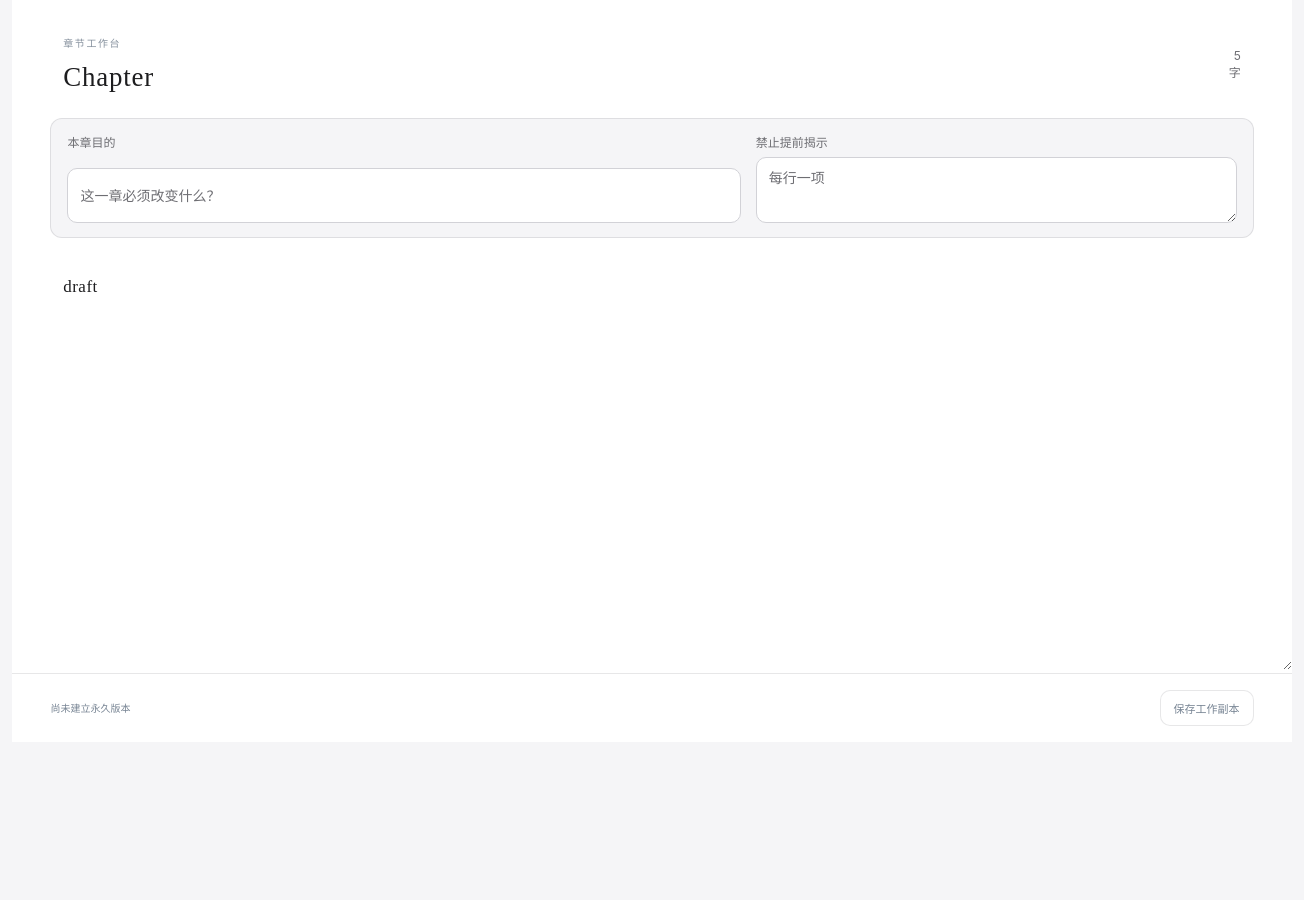
Test: story and writing workspaces › treats saved forbidden revelations semantically and preserves raw input: secret A, secret B
Type "secret A, secret B" into the text box labelled "禁止提前揭示" at (996, 190), box x1=756 y1=157 x2=1237 y2=223
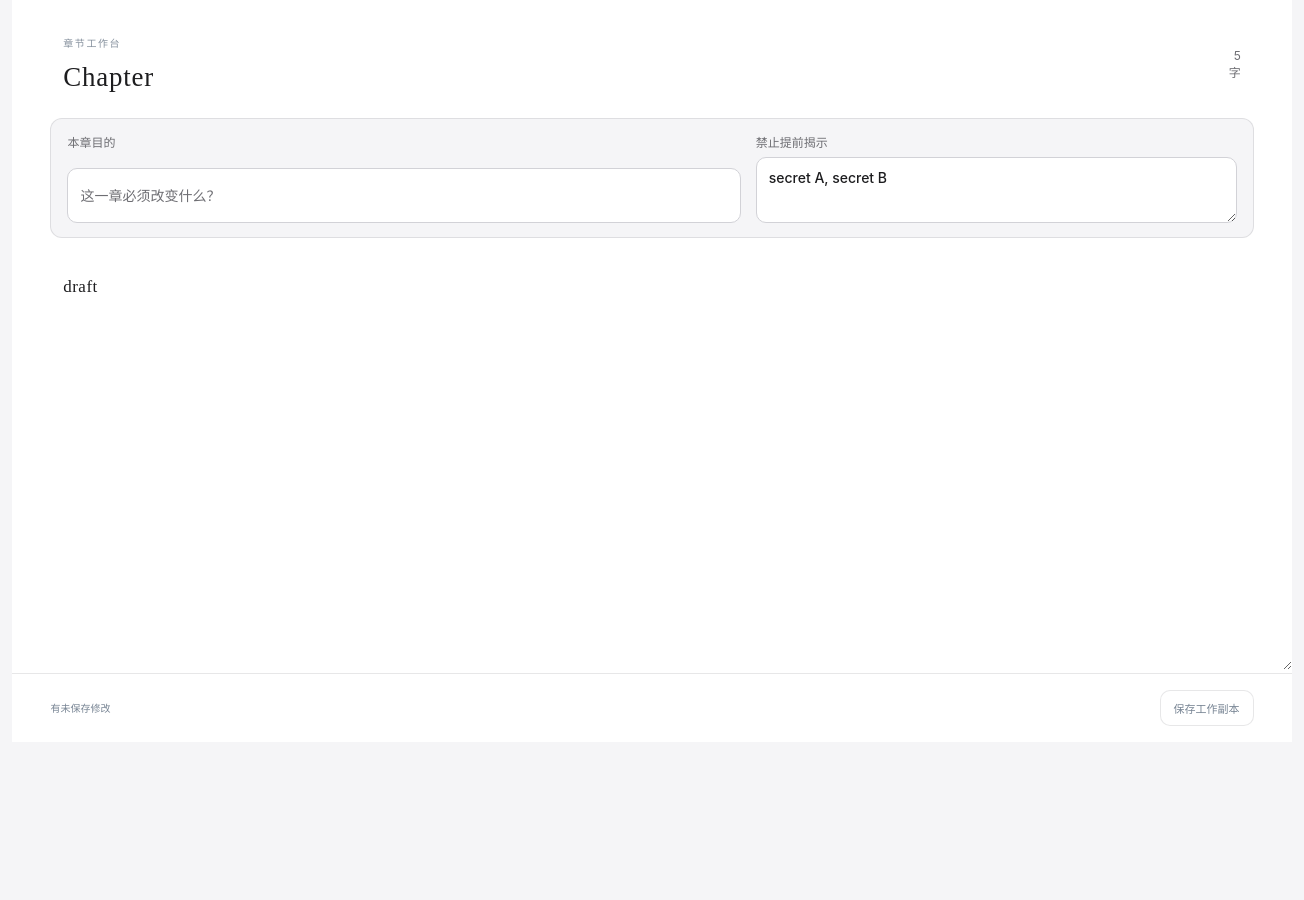
Click the button "保存工作副本" at (1207, 708), box x1=1160 y1=690 x2=1254 y2=726
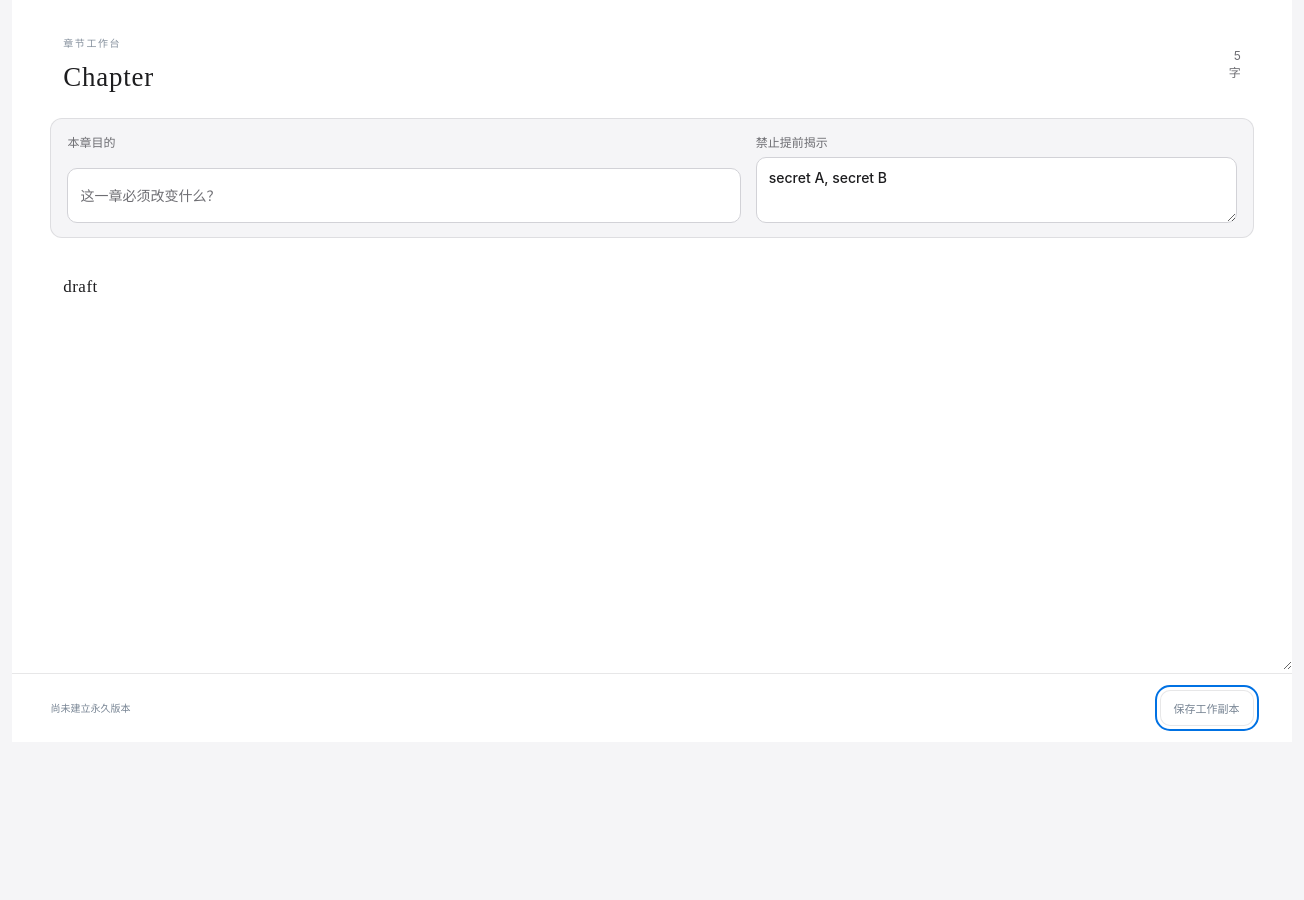
Expected: the text "有未保存修改" is gone
